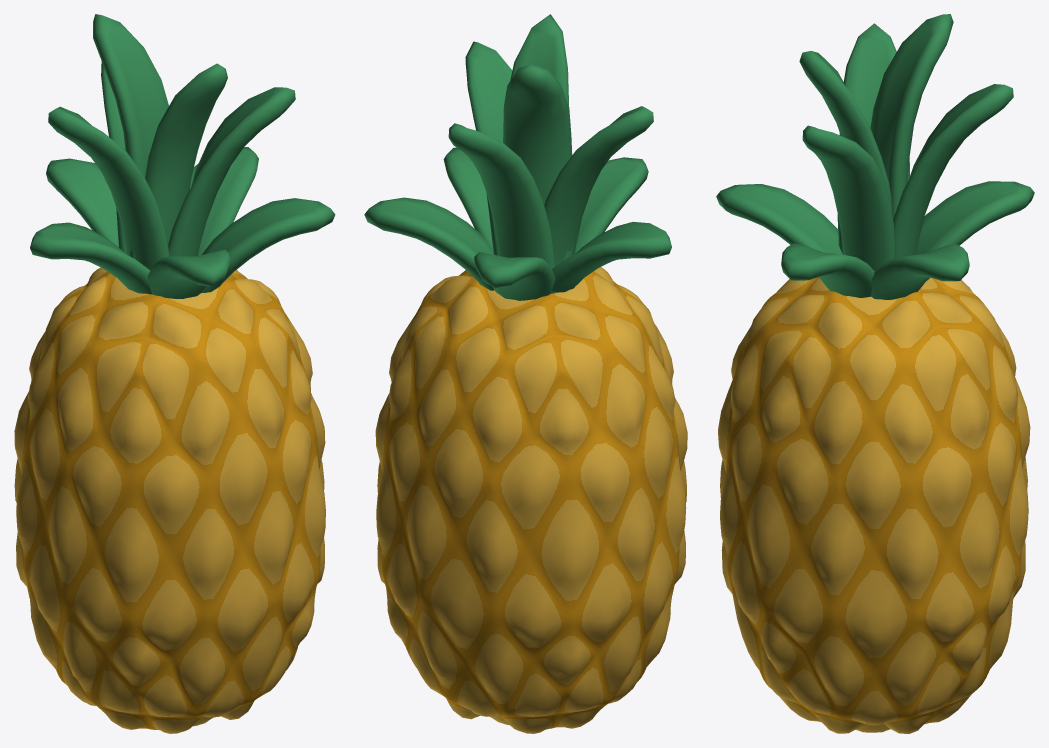
The model's file is Pineapple_03.dae.
The picture shows the model from 3 angles, left to right: view 1: azimuth 30°, elevation 25°; view 2: azimuth 150°, elevation 25°; view 3: azimuth 270°, elevation 25°; orthographic projection.
Visible parts, largest first — view 1: Pineapple_03_LOD0; view 2: Pineapple_03_LOD0; view 3: Pineapple_03_LOD0.
Part boxes in pixels (x1=…): Pineapple_03_LOD0: x1=14, y1=14, x2=335, y2=733; Pineapple_03_LOD0: x1=364, y1=14, x2=687, y2=733; Pineapple_03_LOD0: x1=716, y1=14, x2=1034, y2=733.
Size of what is drawn, in the model's own units: 4.23 by 4.22 by 9.98.
